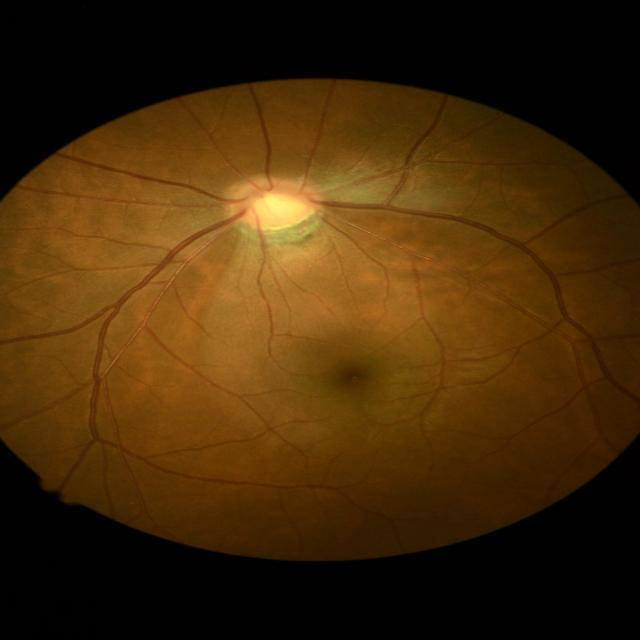cup: (246, 190, 308, 224)
disk: (226, 172, 318, 231)
